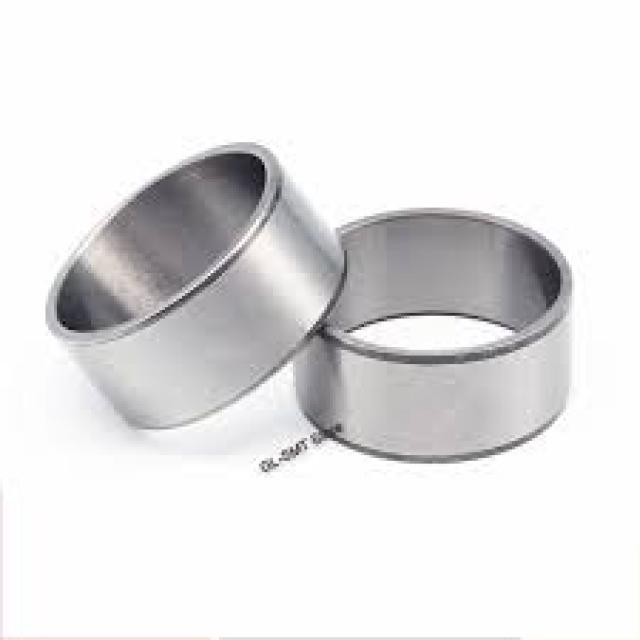Turning: (25, 108, 348, 450), (302, 188, 611, 501)
